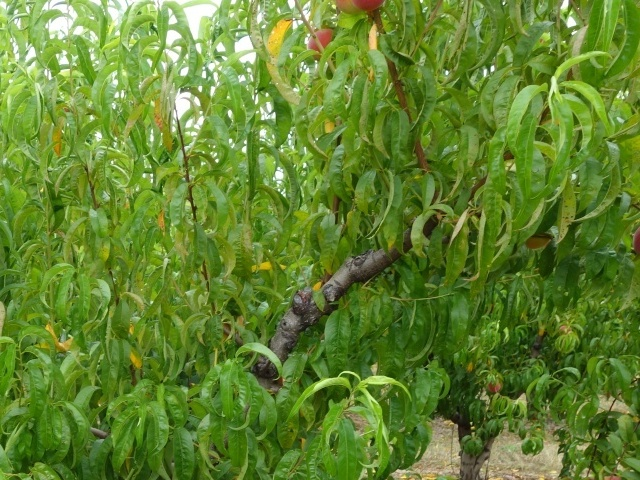peach: (300, 23, 340, 60), (522, 226, 558, 255), (350, 1, 389, 14)
